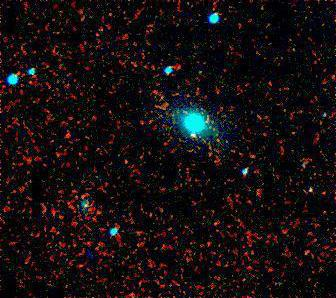star: (179, 121, 209, 151)
